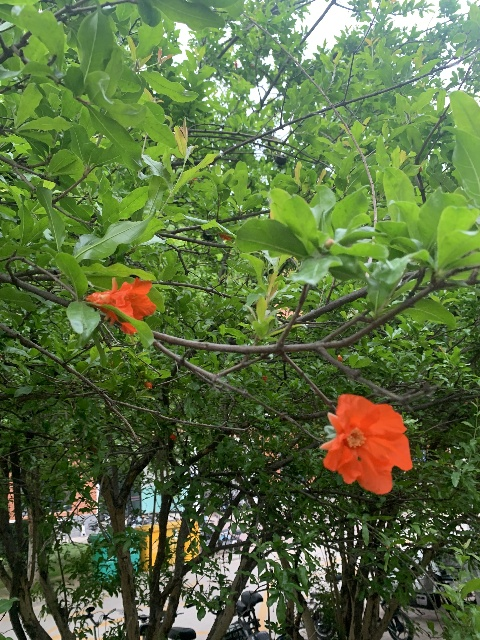bud: (143, 381, 152, 388), (337, 354, 342, 362)
flower: (319, 393, 411, 494), (85, 275, 156, 331), (218, 231, 232, 241)
